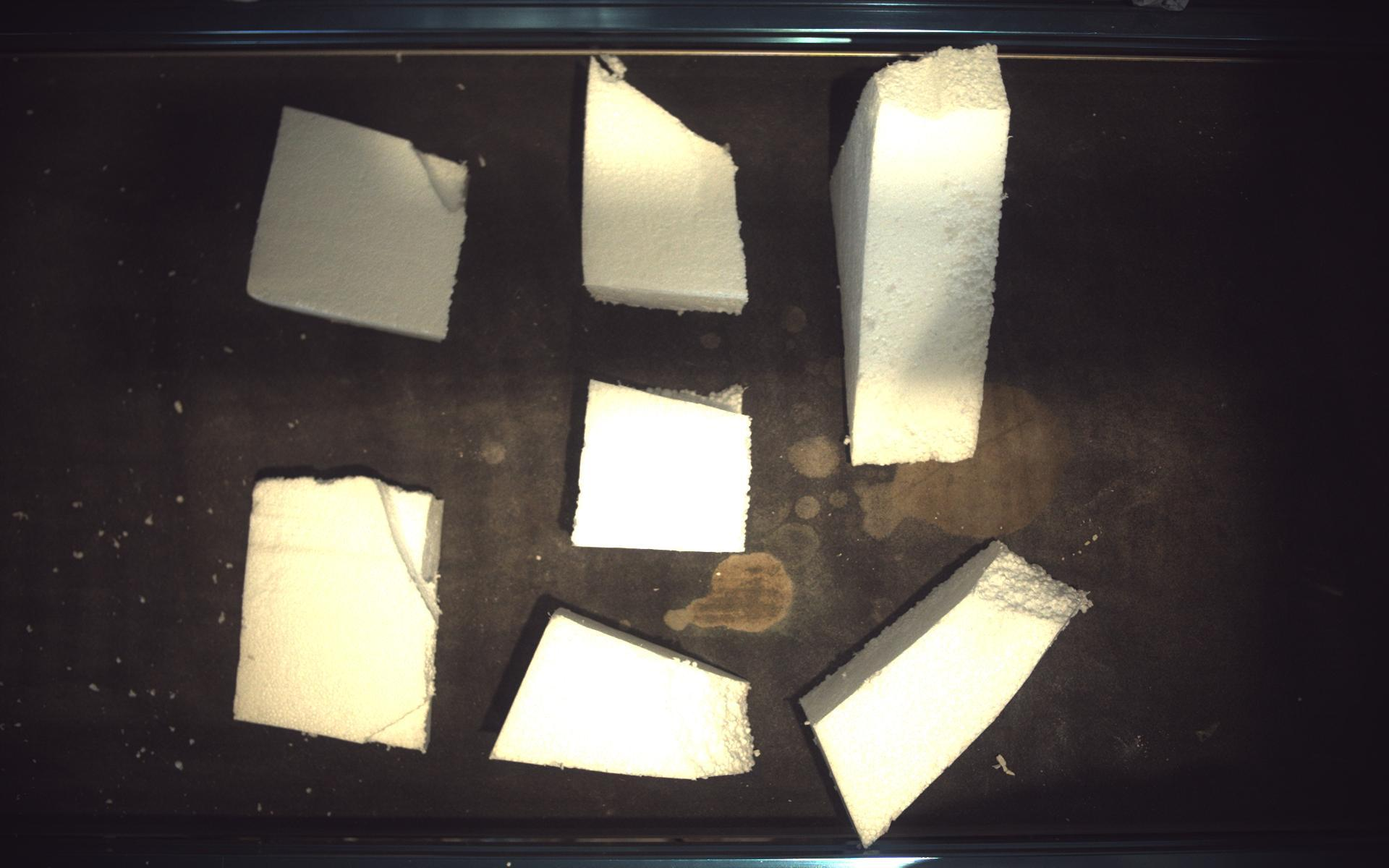foam: (802, 542, 1094, 848), (832, 44, 1012, 465), (234, 476, 443, 752), (247, 106, 468, 340), (490, 610, 755, 780), (582, 55, 749, 313), (572, 380, 752, 553)
